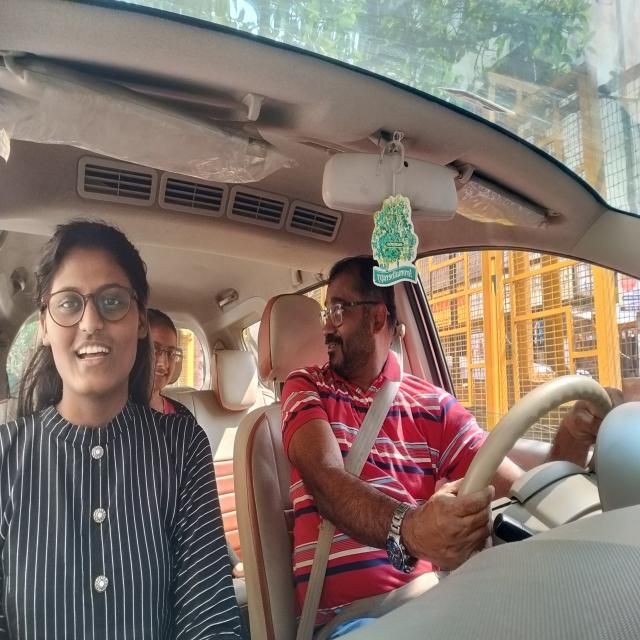LeftRight: (322, 259, 392, 377)
person: (38, 231, 151, 405), (151, 309, 184, 395)
